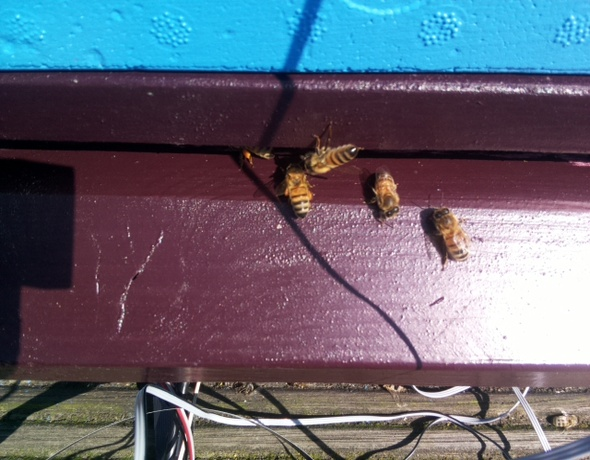no_pollen: (428, 204, 473, 267), (299, 139, 361, 179), (368, 164, 403, 223)
pollen: (279, 161, 316, 221), (237, 145, 280, 168)
